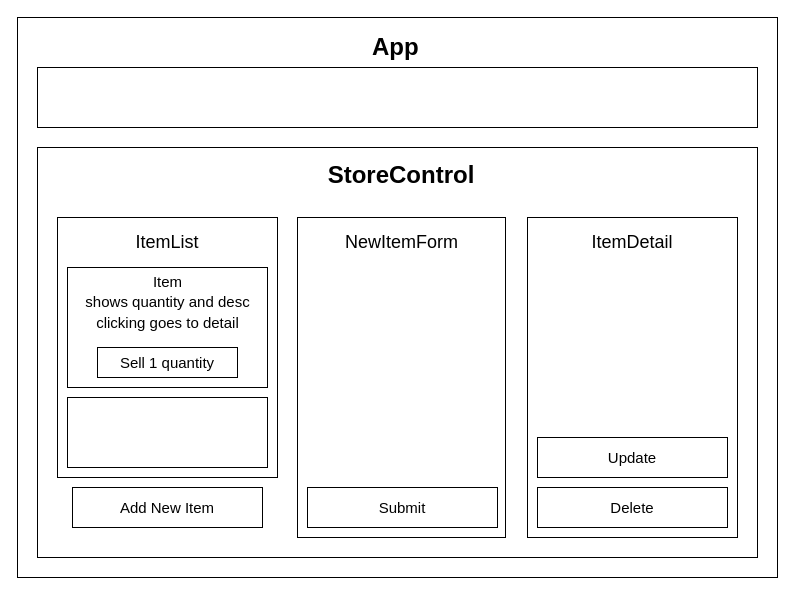
Image size: 795x595. Some labels were removed from this diagram. The shapes that lost their labels are listed below. From the top down, each one's centre as x and y in pixels, then its label:
At (397,97): "Header".
At (167,432): "Item".
